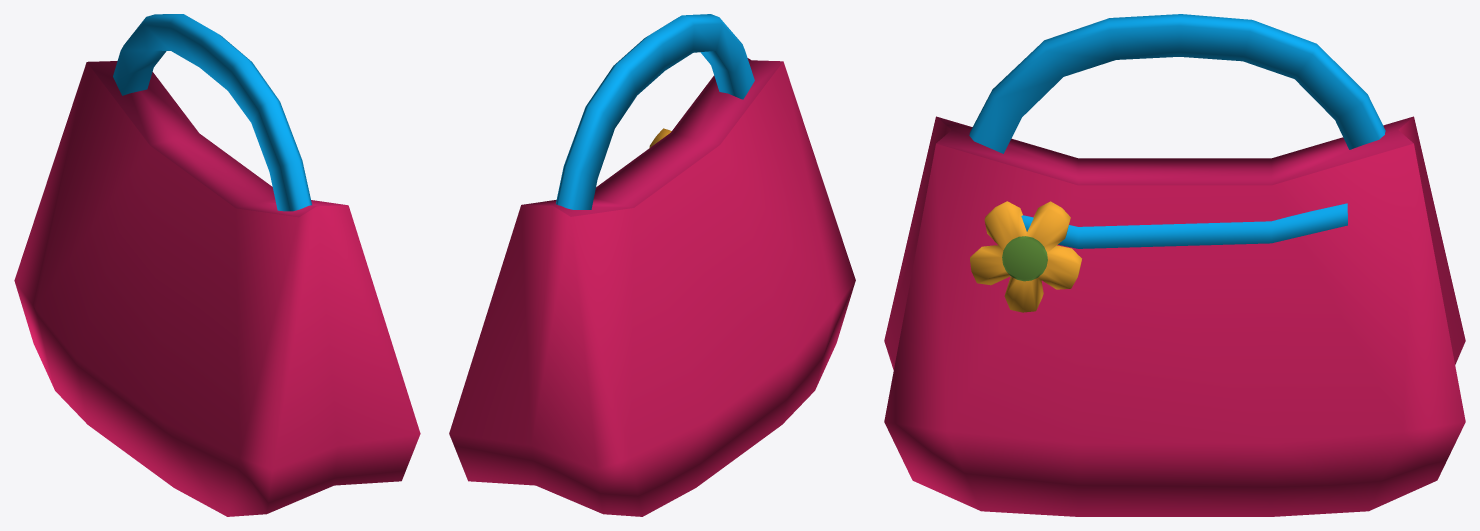
The model's file is Bag.fbx.
3 views of the same model, side by side, from view 1: azimuth 30°, elevation 25°; view 2: azimuth 150°, elevation 25°; view 3: azimuth 270°, elevation 25° (orthographic). The views are drawn at different scales.
Visible parts, largest first — view 1: bag; view 2: bag; view 3: bag.
Part boxes in pixels (x1,y1,x2,y2): bag: (14, 14, 420, 516); bag: (449, 14, 855, 516); bag: (884, 14, 1465, 516).
Size of the model in its own units: 34.5 by 67.25 by 78.51.
